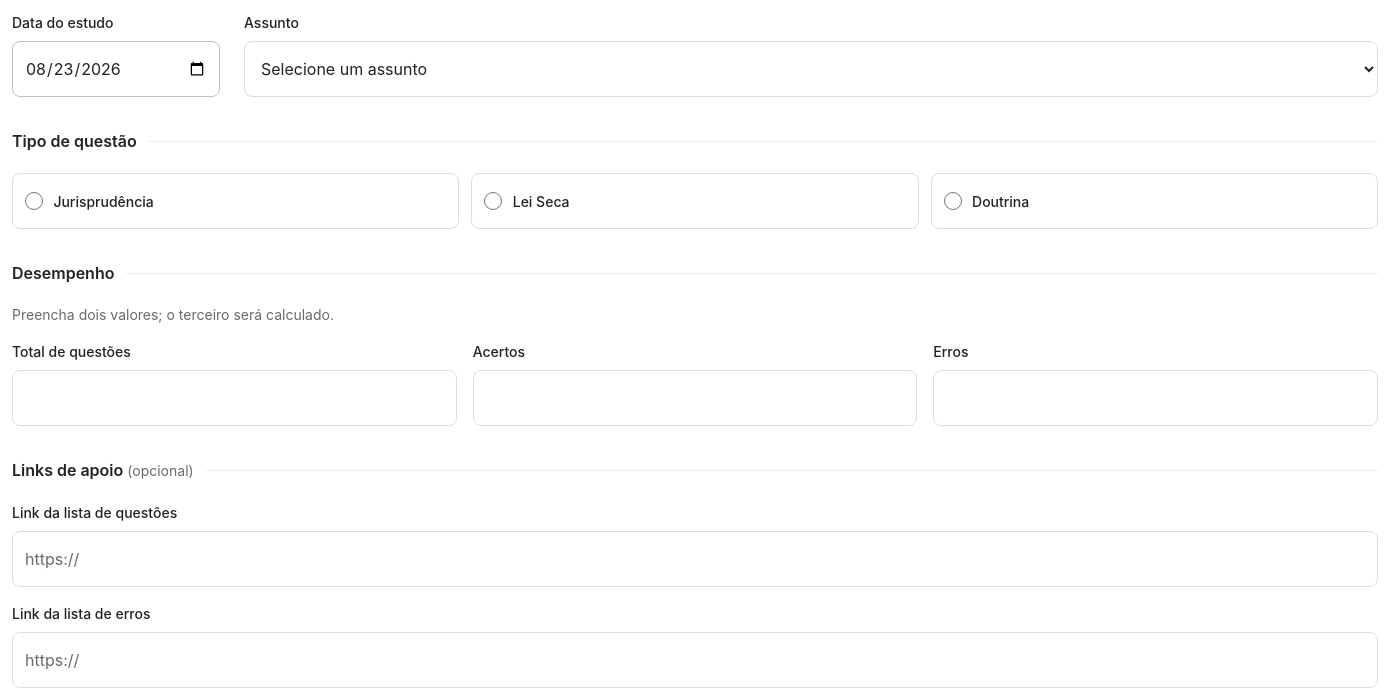
Test: SessionForm › keeps an inconsistent manual value and explains the conflict
In the number field labelled "Total de questões": (234, 398) [12, 370, 457, 426], type "50"
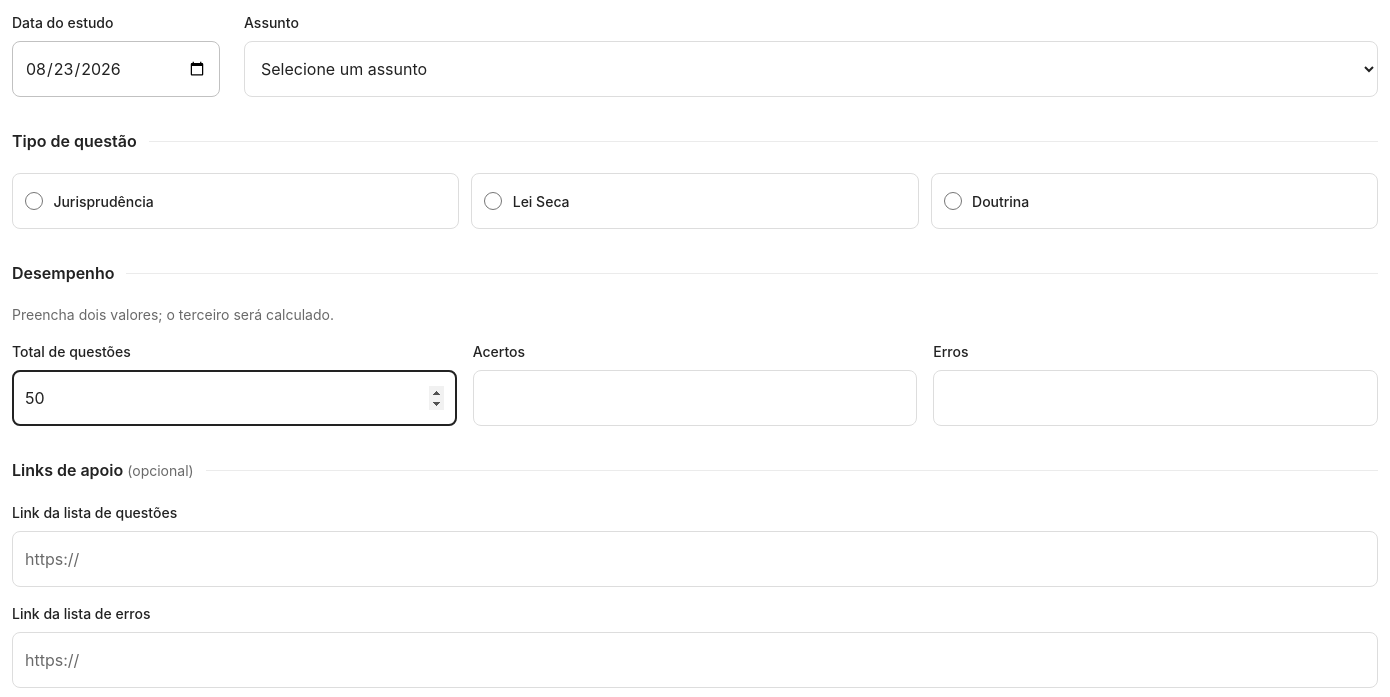
In the number field labelled "Acertos": (695, 398) [473, 370, 917, 426], type "30"
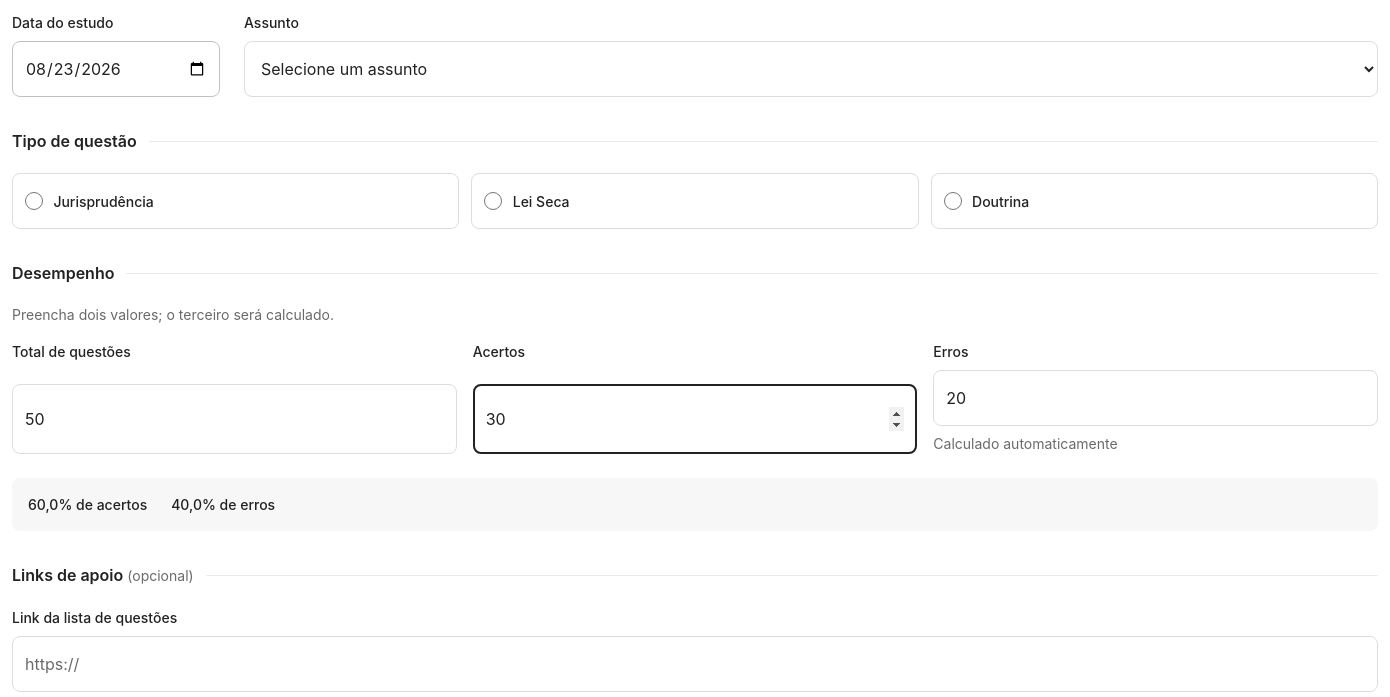
Replace the text in the number field labelled "Erros" with "25": (1156, 398) [933, 370, 1378, 426]
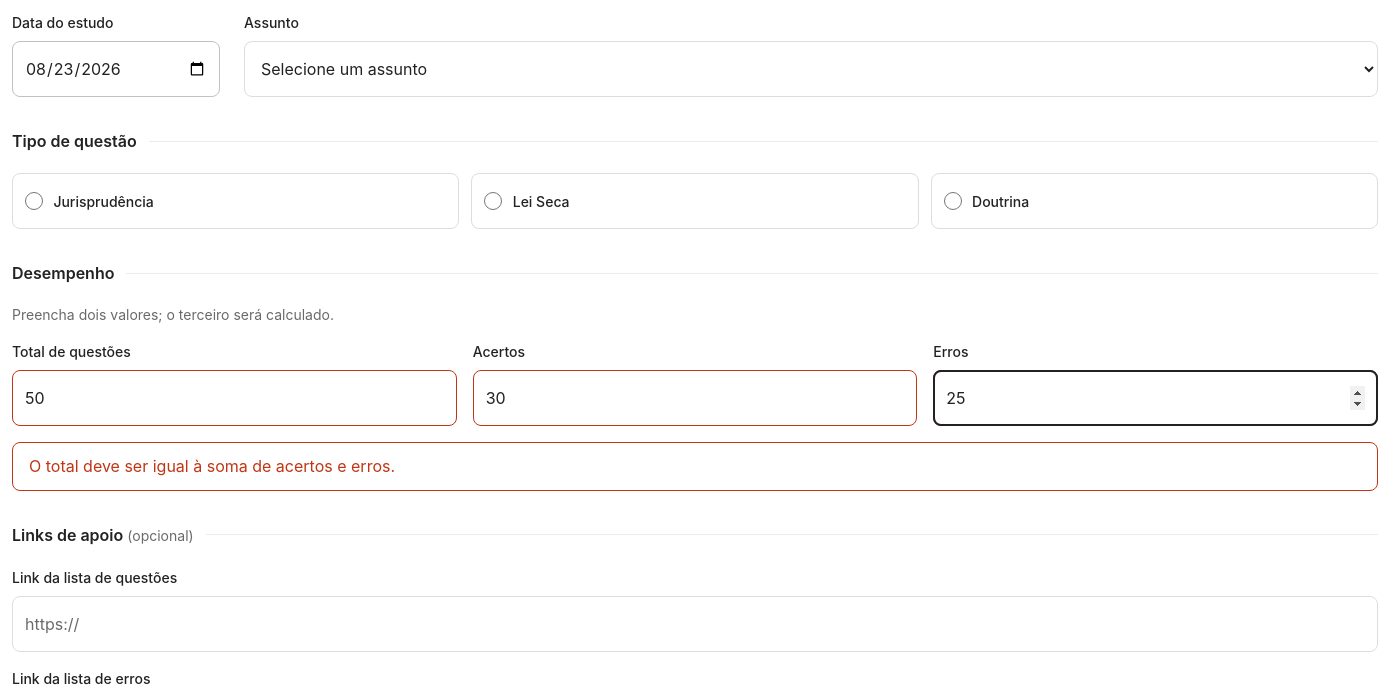
Expected: the text "Calculado automaticamente" is not shown
Now the message reads "O total deve ser igual à soma de acertos e erros.", box [29, 456, 395, 476]
